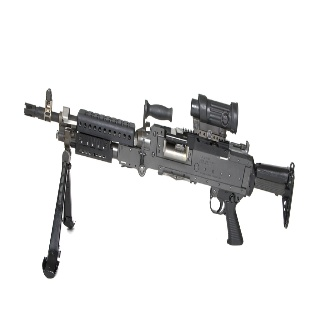rifle: (22, 88, 297, 280)
